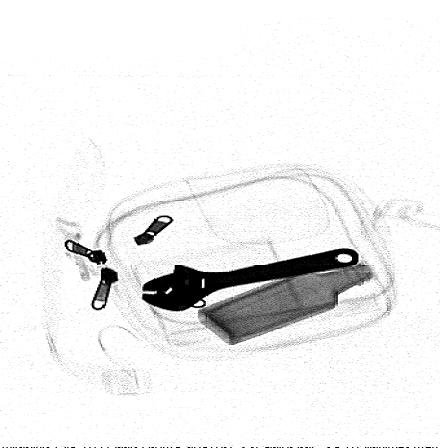Wrench: (140, 247, 361, 313)
